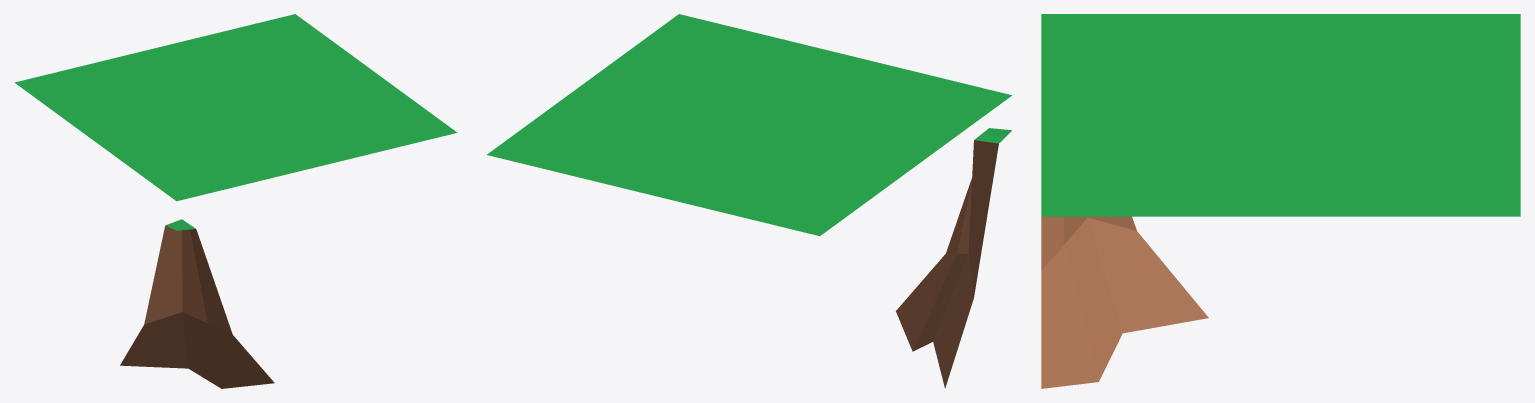
File: Corner Top Inverted.fbx
The picture shows the model from 3 angles, left to right: view 1: azimuth 30°, elevation 25°; view 2: azimuth 150°, elevation 25°; view 3: azimuth 270°, elevation 25°; orthographic projection. The views are drawn at different scales.
Visible parts, largest first — view 1: Corner Top Inverted; view 2: Corner Top Inverted; view 3: Corner Top Inverted.
Boxes of the visible parts, <box> form: Corner Top Inverted: <box>14,14,457,388</box>; Corner Top Inverted: <box>487,14,1011,388</box>; Corner Top Inverted: <box>1041,14,1520,388</box>.
Size of the model in its own units: 50 by 37 by 50.
